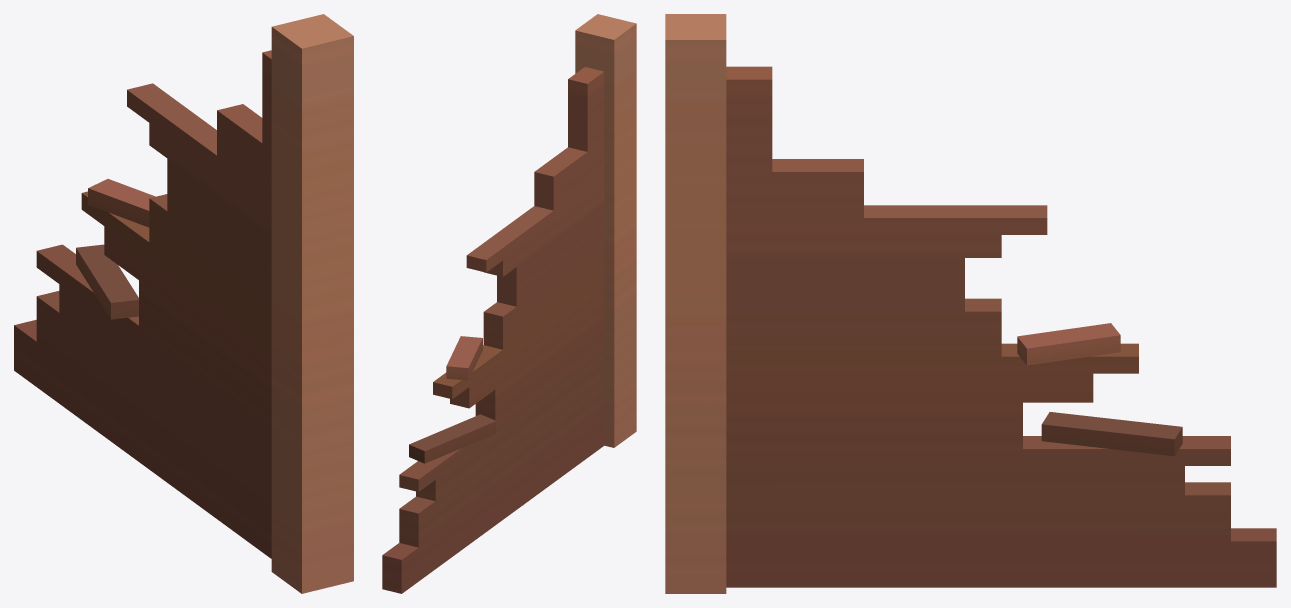
The model's file is wall-wood-broken.glb.
The picture shows the model from 3 angles, left to right: view 1: azimuth 30°, elevation 25°; view 2: azimuth 150°, elevation 25°; view 3: azimuth 270°, elevation 25°; orthographic projection. The views are drawn at different scales.
Visible parts, largest first — view 1: wall-wood-broken; view 2: wall-wood-broken; view 3: wall-wood-broken.
Boxes of the visible parts, box(x1,y1,x2,y2) form: wall-wood-broken: box(14, 14, 353, 593); wall-wood-broken: box(382, 14, 636, 593); wall-wood-broken: box(665, 14, 1276, 593).
Size of the model in its own units: 0.1129 by 1 by 1.
1 material, 1 textured.
